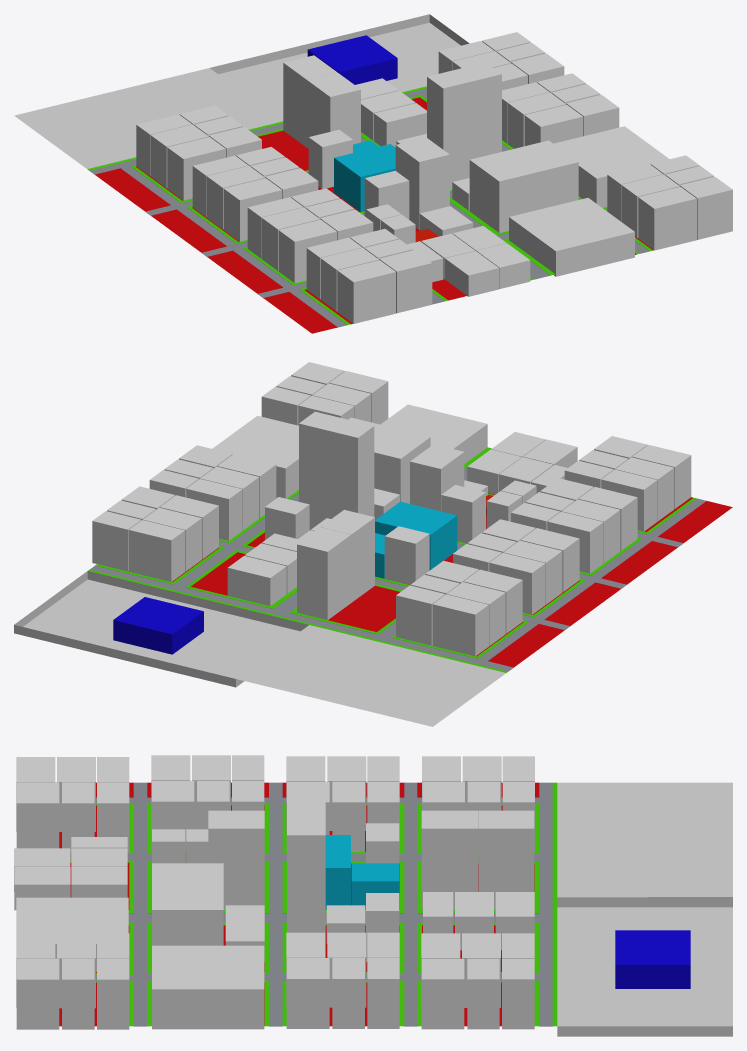
Rendered from cALLES 1.fbx.
3 renders of one model, top to bottom at view 1: azimuth 30°, elevation 25°; view 2: azimuth 150°, elevation 25°; view 3: azimuth 270°, elevation 25°, orthographic. The views are drawn at different scales.
Parts seen in each view (by area): view 1: Plane.001, Cube, Cube.005, Cube.008, Cube.009, Cube.003, Cube.084, Cube.083, Cube.016, Cube.024, Cube.004, Cube.017 (+52 smaller); view 2: Plane.001, Cube.005, Cube.017, Cube.024, Cube.009, Cube.008, Cube.038, Cube.057, Cube, Cube.003, Cube.004, Cube.020 (+43 smaller); view 3: Plane.001, Cube.009, Cube, Cube.005, Cube.003, Cube.016, Cube.017, Cube.024, Cube.008, Cube.089, Cube.041, Cube.042 (+56 smaller).
Part boxes in pixels (x1,y1,x2,y2): Plane.001: (14, 14, 697, 333); Cube: (469, 140, 578, 232); Cube.005: (427, 62, 501, 190); Cube.008: (509, 198, 634, 276); Cube.009: (553, 126, 669, 207); Cube.003: (395, 137, 449, 229); Cube.084: (638, 187, 696, 250); Cube.083: (337, 260, 395, 323); Cube.016: (307, 72, 360, 148); Cube.024: (307, 35, 397, 84); Cube.004: (334, 144, 395, 211); Cube.017: (283, 55, 337, 147); Plane.001: (14, 447, 732, 726); Cube.005: (299, 411, 374, 530); Cube.017: (297, 527, 351, 620); Cube.024: (113, 597, 203, 654); Cube.009: (212, 415, 298, 498); Cube.008: (380, 404, 487, 463); Cube.038: (128, 520, 184, 581); Cube.057: (432, 594, 488, 656); Cube: (348, 417, 430, 503); Cube.003: (410, 444, 464, 511); Cube.004: (375, 501, 457, 570); Cube.020: (227, 556, 286, 606); Plane.001: (59, 782, 732, 1036); Cube.009: (152, 945, 264, 1029); Cube: (152, 863, 223, 945); Cube.005: (287, 801, 325, 957); Cube.003: (208, 810, 264, 909); Cube.016: (421, 810, 477, 909); Cube.017: (478, 810, 534, 909); Cube.024: (615, 930, 690, 988); Cube.008: (16, 897, 128, 971); Cube.089: (16, 958, 59, 1029); Cube.041: (421, 958, 464, 1029); Cube.042: (286, 958, 329, 1028).
Size of the model in its own units: 20249 by 5156 by 24926.
